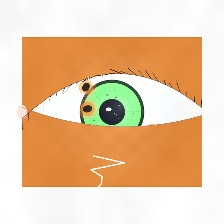foreign_body_visible: (42, 120, 71, 143)
